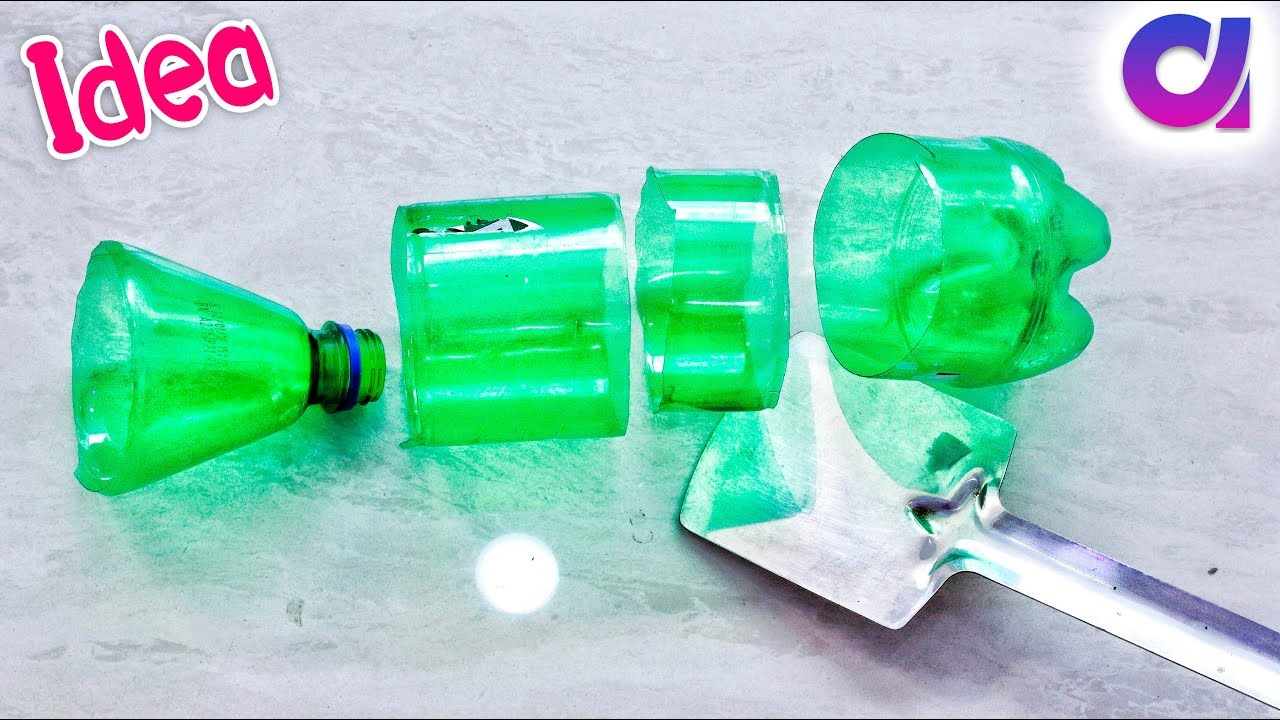plastic_bottle: (36, 83, 1233, 666)
